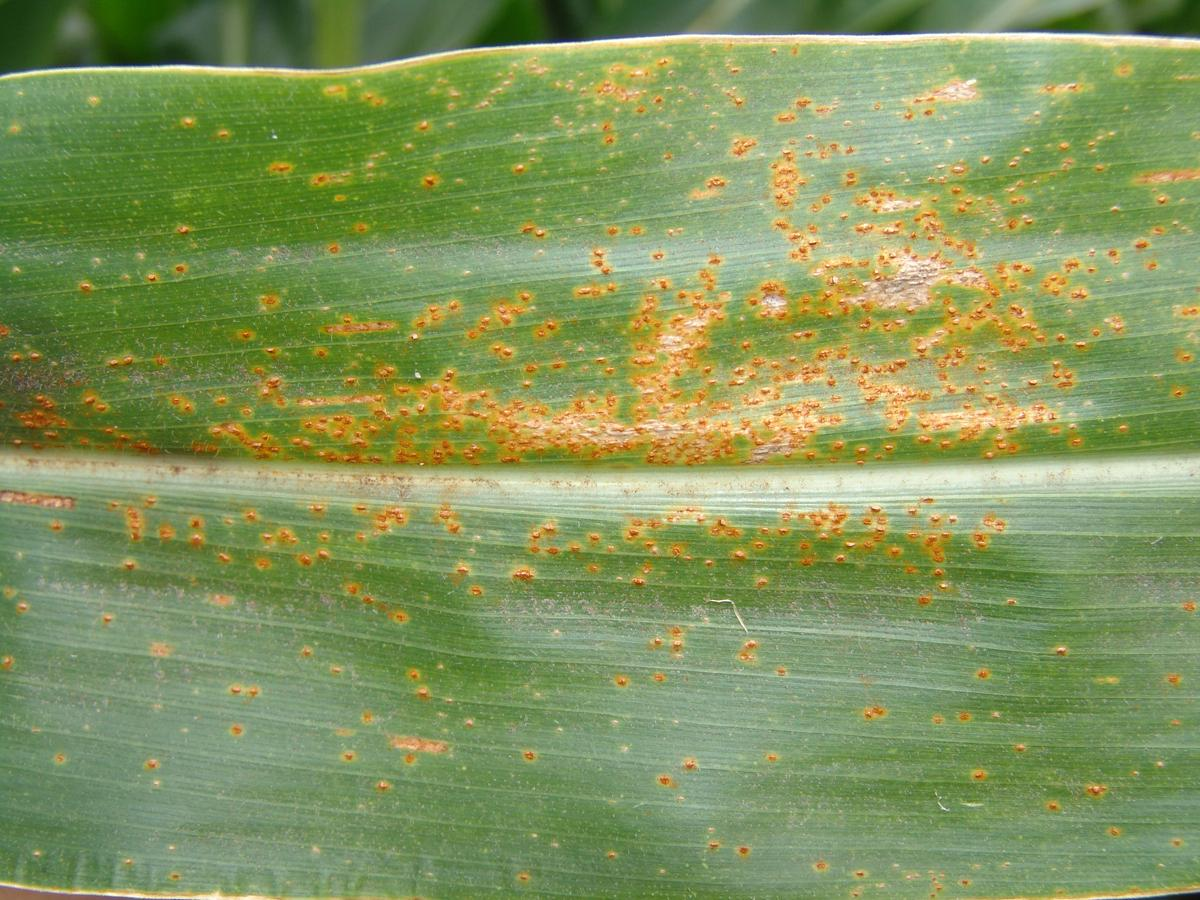Corn rust leaf: (1, 1, 1199, 894)
